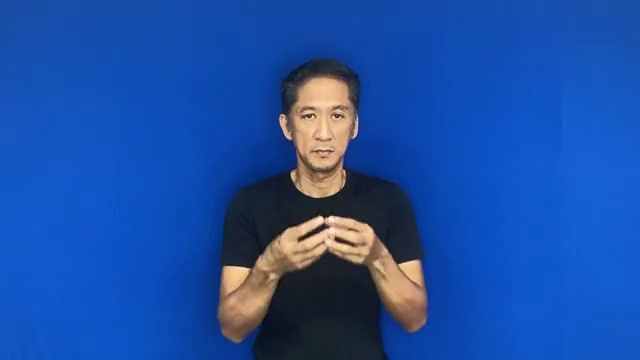egg: (259, 205, 384, 279)
